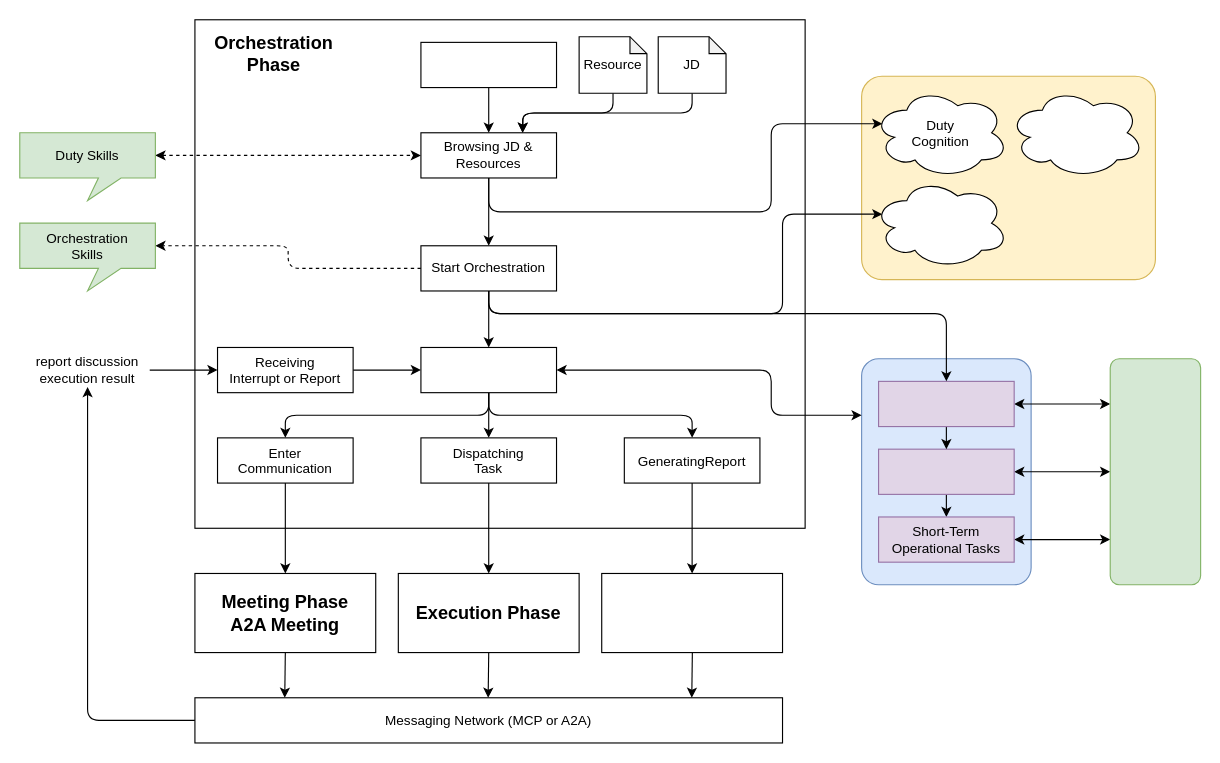
Some shapes in this 1220 by 763 pixel diagram are drawn without their labels. Each missing label, with the centre of its shape:
Agent Creat: point (488, 64)
Knowledge Cognition: point (1075, 132)
Long-Term Strategic Plan: point (945, 403)
Middle-Term Tactic Schedule: point (945, 471)
Orchestrating: point (488, 369)
Report Phase: point (692, 612)
Self-Managing Cognition: point (940, 222)
Status: point (1155, 471)
